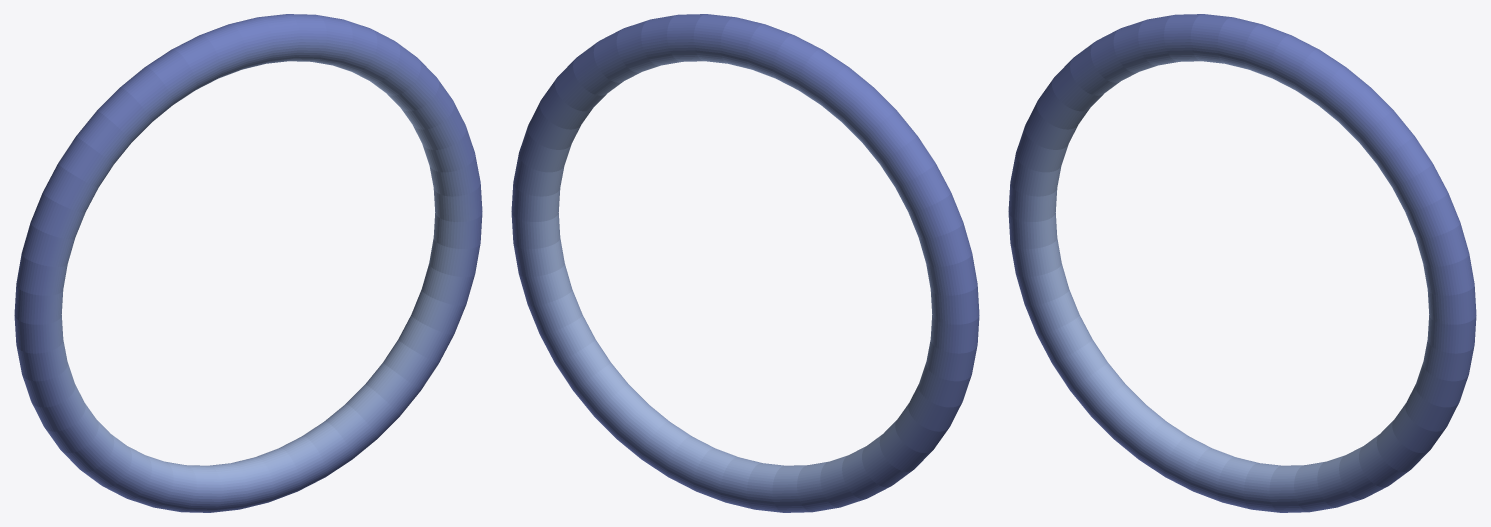
The picture shows the model from 3 angles, left to right: view 1: azimuth 30°, elevation 25°; view 2: azimuth 150°, elevation 25°; view 3: azimuth 330°, elevation 25°; orthographic projection.
Visible parts, largest first — view 1: world; view 2: world; view 3: world.
Part boxes in pixels (bbox=[...]): world: bbox=[14, 14, 482, 512]; world: bbox=[511, 14, 979, 512]; world: bbox=[1008, 14, 1476, 512].
Size of the model in its own units: 28.53 by 28.48 by 2.53.
